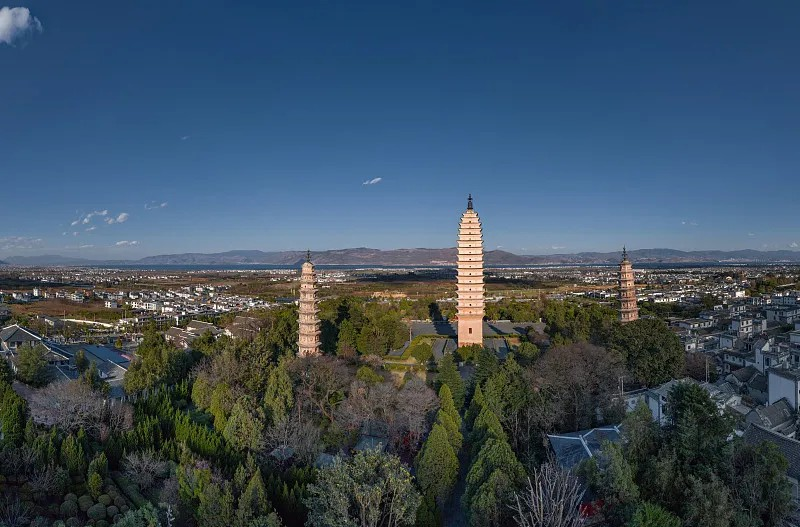ThreePagoda: (455, 194, 486, 347)
